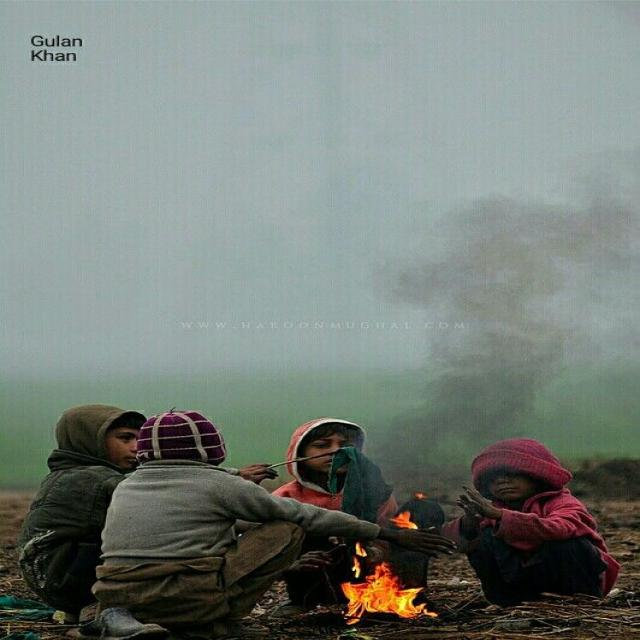fire: (341, 560, 439, 624)
